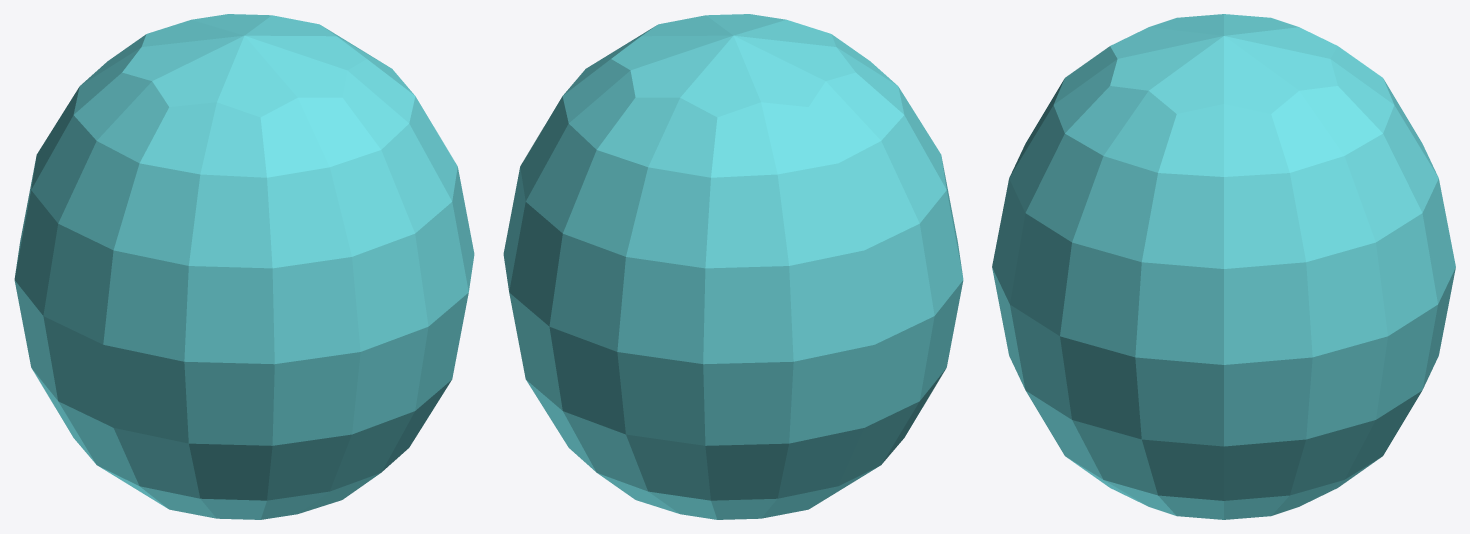
File: highlight.glb
3 renders of one model, left to right at view 1: azimuth 30°, elevation 25°; view 2: azimuth 150°, elevation 25°; view 3: azimuth 270°, elevation 25°, orthographic.
Parts seen in each view (by area): view 1: Sphere; view 2: Sphere; view 3: Sphere.
Boxes of the visible parts, x1,y1,x2,y2 form: Sphere: (14,14,474,519); Sphere: (503,14,963,519); Sphere: (992,14,1455,519).
Bounding box in the file's own units: 0.1629 × 0.179 × 0.1629.
